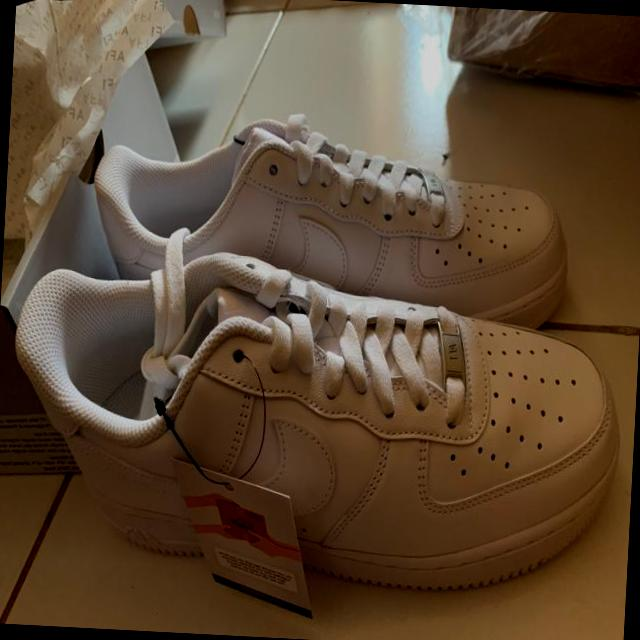nike_original_airforce: (0, 240, 631, 607), (88, 106, 574, 338)
